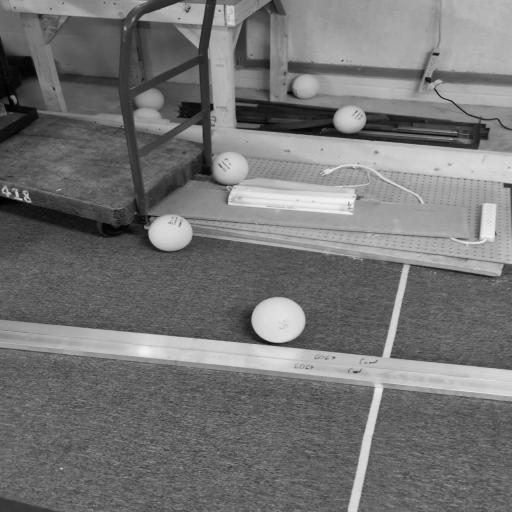fuel: (252, 298, 305, 343), (149, 215, 192, 251), (212, 152, 248, 185), (333, 106, 366, 133), (292, 74, 319, 99), (135, 88, 164, 110), (134, 108, 162, 119)
